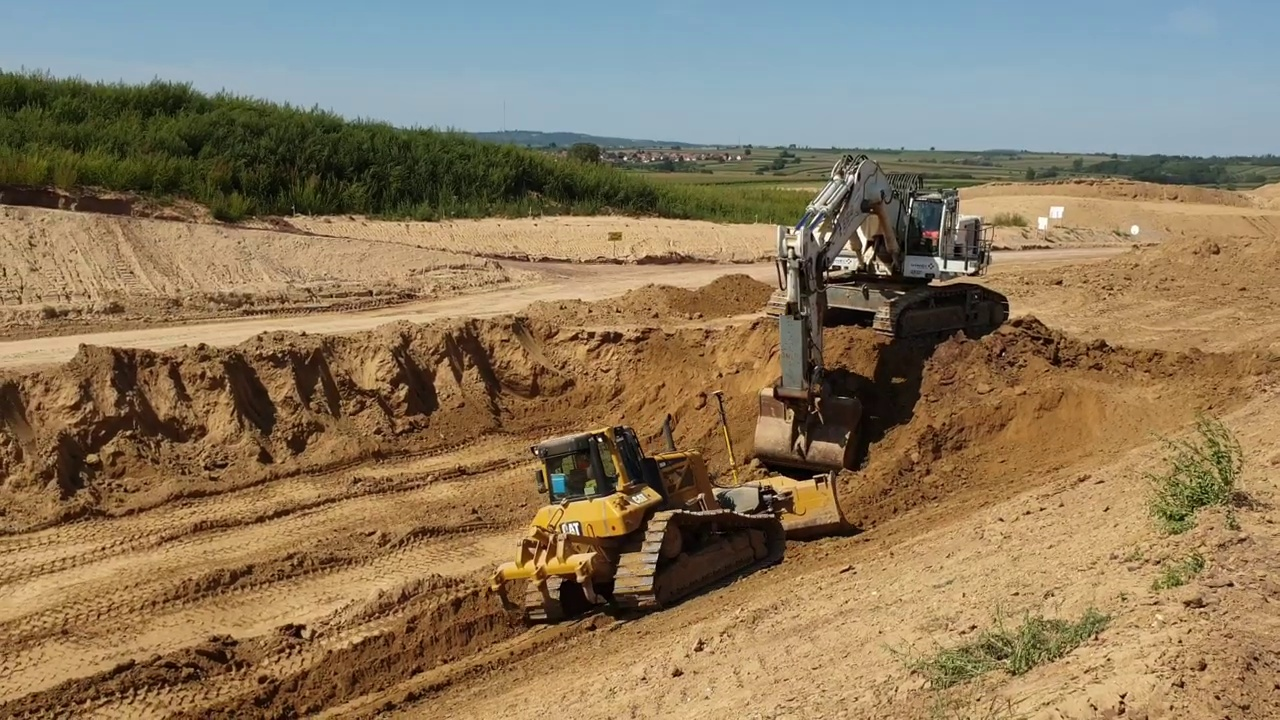bulldozer: (488, 383, 859, 624)
excavator: (750, 147, 1006, 478)
